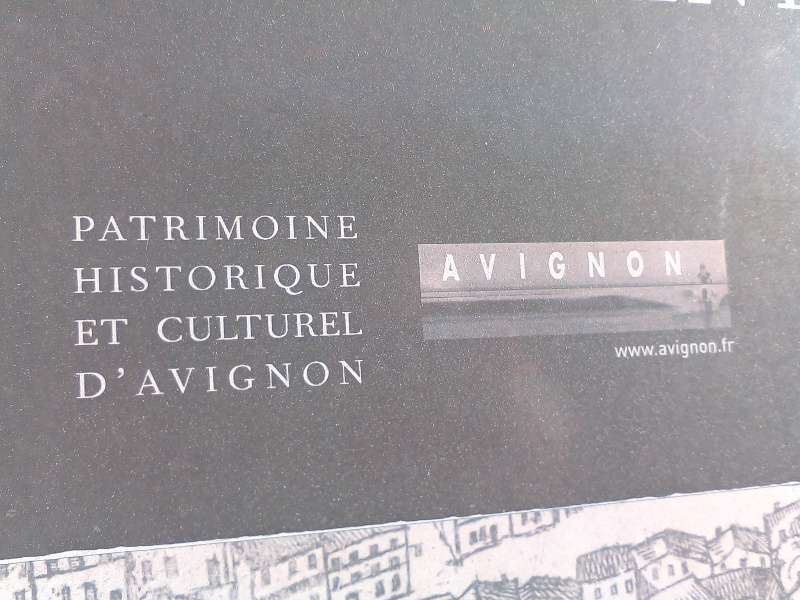text: (81, 358, 96, 401), (97, 358, 112, 401), (113, 358, 128, 401), (129, 358, 144, 401), (145, 358, 160, 401), (161, 358, 176, 401), (177, 358, 192, 401), (193, 358, 208, 401), (209, 358, 224, 401), (225, 358, 240, 401), (241, 358, 256, 401), (257, 358, 272, 401), (273, 358, 288, 401), (289, 358, 304, 401), (305, 358, 320, 401), (321, 358, 336, 401), (337, 358, 352, 401), (81, 260, 96, 298), (97, 260, 112, 298), (113, 260, 128, 298), (129, 260, 144, 298), (145, 260, 160, 298), (161, 260, 176, 298), (177, 260, 192, 298), (193, 260, 208, 298), (209, 260, 224, 298), (225, 260, 240, 298), (241, 260, 256, 298), (257, 260, 272, 298), (273, 260, 288, 298), (289, 260, 304, 298), (305, 260, 320, 298), (321, 260, 336, 298), (337, 260, 352, 298), (353, 358, 366, 401), (449, 247, 464, 283), (465, 247, 480, 283), (481, 247, 496, 283), (497, 247, 512, 283), (513, 247, 528, 283), (529, 247, 544, 283), (545, 247, 560, 283), (561, 247, 576, 283), (577, 247, 592, 283), (593, 247, 608, 283), (609, 247, 624, 283), (625, 247, 640, 283), (641, 247, 656, 283), (657, 247, 672, 283), (161, 310, 176, 345), (177, 310, 192, 345), (193, 310, 208, 345), (209, 310, 224, 345), (225, 310, 240, 345), (241, 310, 256, 345), (257, 310, 272, 345), (273, 310, 288, 345), (289, 310, 304, 345), (305, 310, 320, 345), (321, 310, 336, 345), (337, 310, 352, 345), (113, 318, 129, 347), (353, 260, 365, 298), (81, 213, 96, 243), (97, 213, 112, 243), (113, 213, 128, 243), (129, 213, 144, 243), (145, 213, 160, 243), (161, 213, 176, 243), (177, 213, 192, 243), (193, 213, 208, 243), (209, 213, 224, 243), (225, 213, 240, 243), (241, 213, 256, 243), (257, 213, 272, 243), (273, 213, 288, 243), (289, 213, 304, 243), (305, 213, 320, 243), (321, 213, 336, 243), (337, 213, 352, 243), (81, 318, 96, 347), (97, 318, 112, 347), (673, 247, 685, 283), (721, 334, 737, 361), (353, 310, 365, 345), (625, 334, 640, 361), (641, 334, 656, 361), (657, 334, 672, 361), (673, 334, 688, 361), (689, 334, 704, 361), (705, 334, 720, 361), (72, 260, 80, 298), (613, 334, 624, 361), (441, 247, 448, 283), (72, 213, 80, 243), (75, 358, 80, 401), (73, 318, 80, 347), (353, 213, 359, 243), (155, 310, 160, 345)
